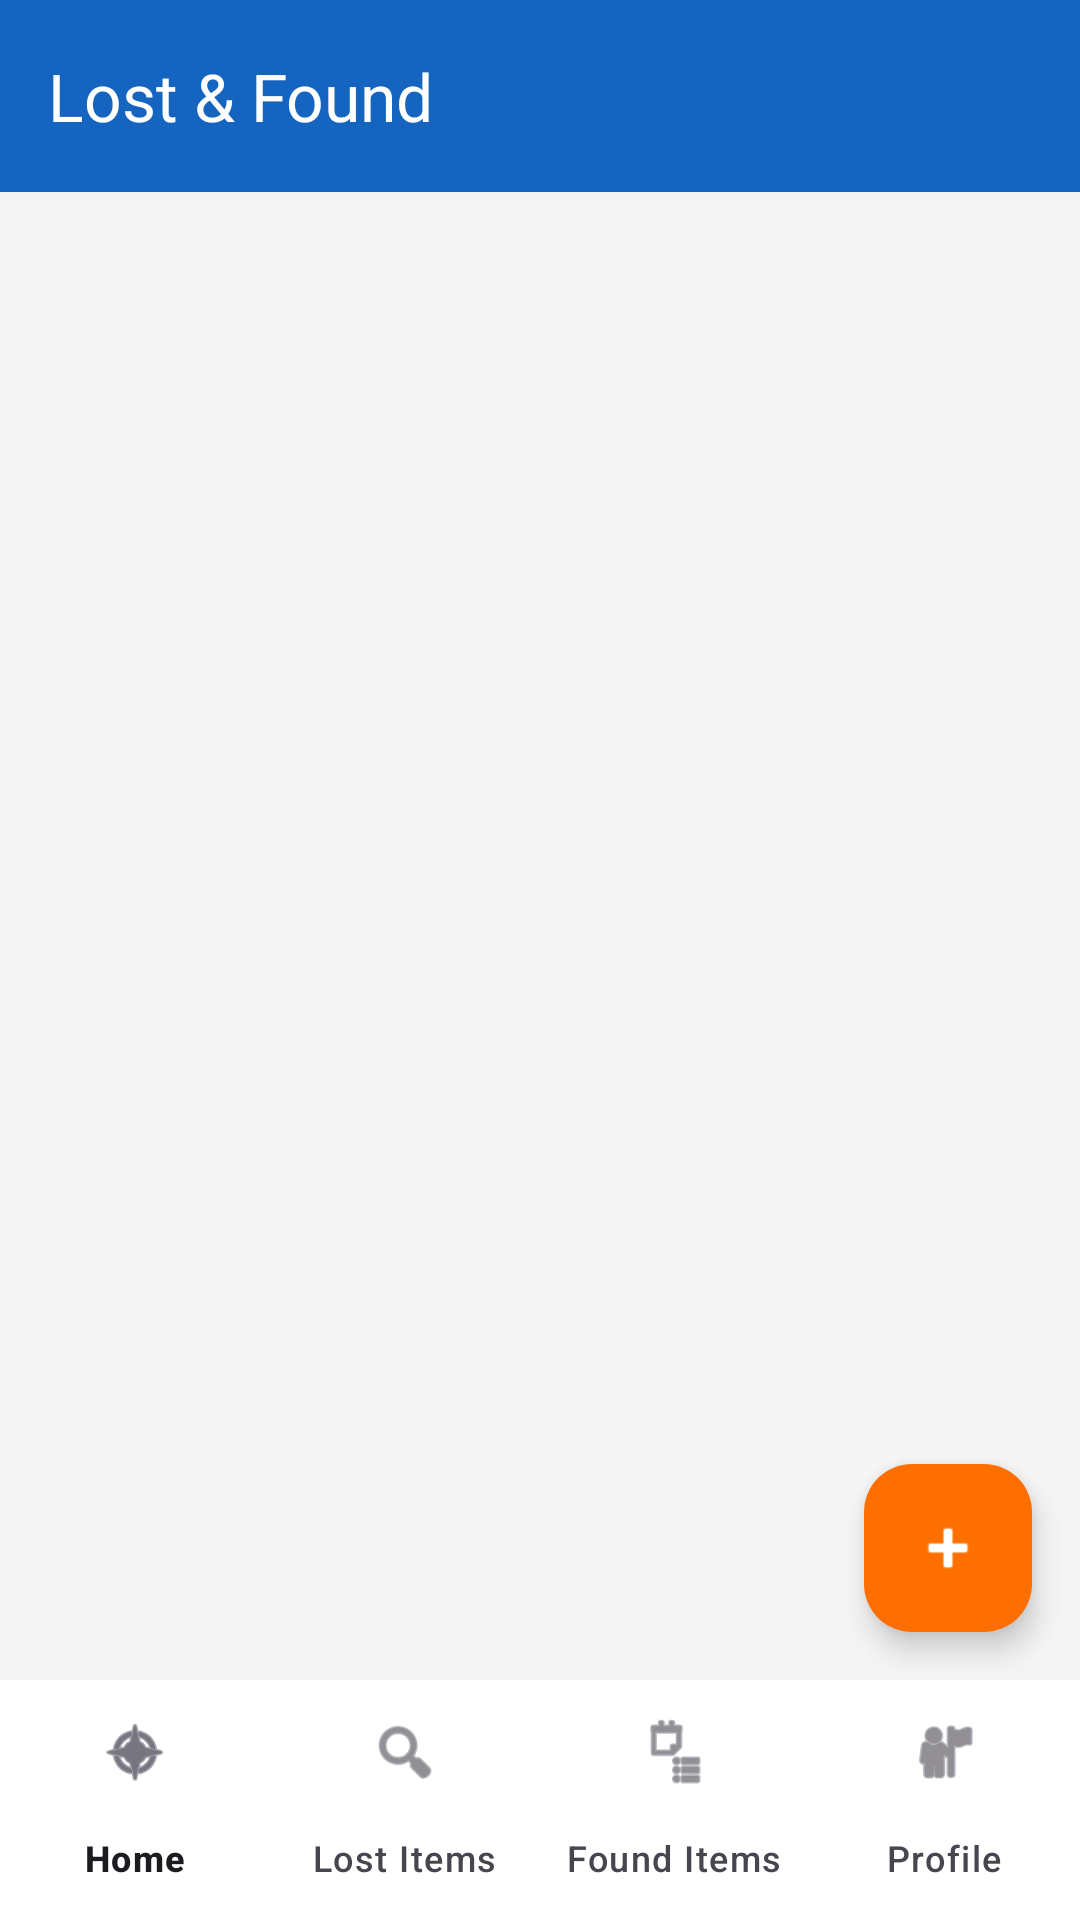

Locate icon controls on the screen. Image size 1080x1920, boxes as (x1, y1, x2, y2).
Add Item: (864, 1464, 1032, 1632)
